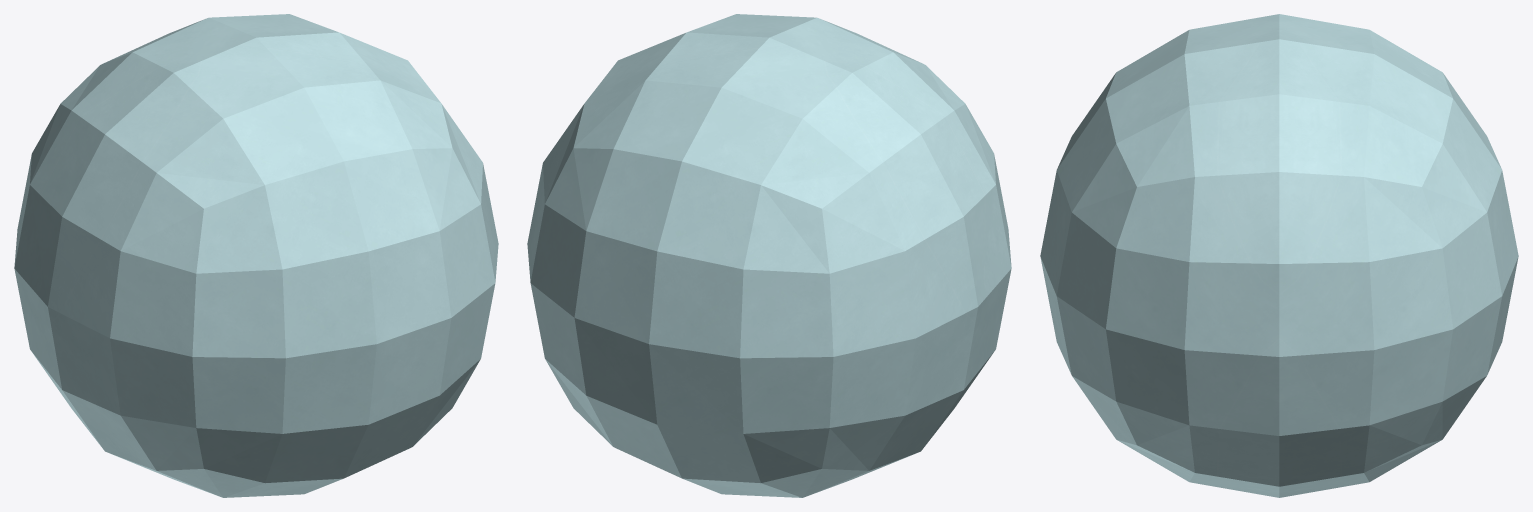
The model's file is resto_ni_teo_9.obj.
3 renders of one model, left to right at view 1: azimuth 30°, elevation 25°; view 2: azimuth 150°, elevation 25°; view 3: azimuth 270°, elevation 25°, orthographic.
Size of the model in its own units: 0.0712 by 0.0712 by 0.0712.
